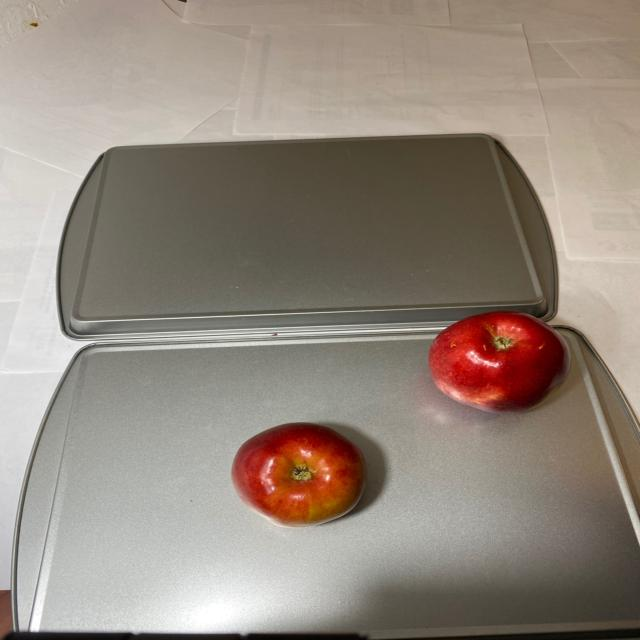apple: (427, 313, 571, 415), (231, 421, 368, 528)
